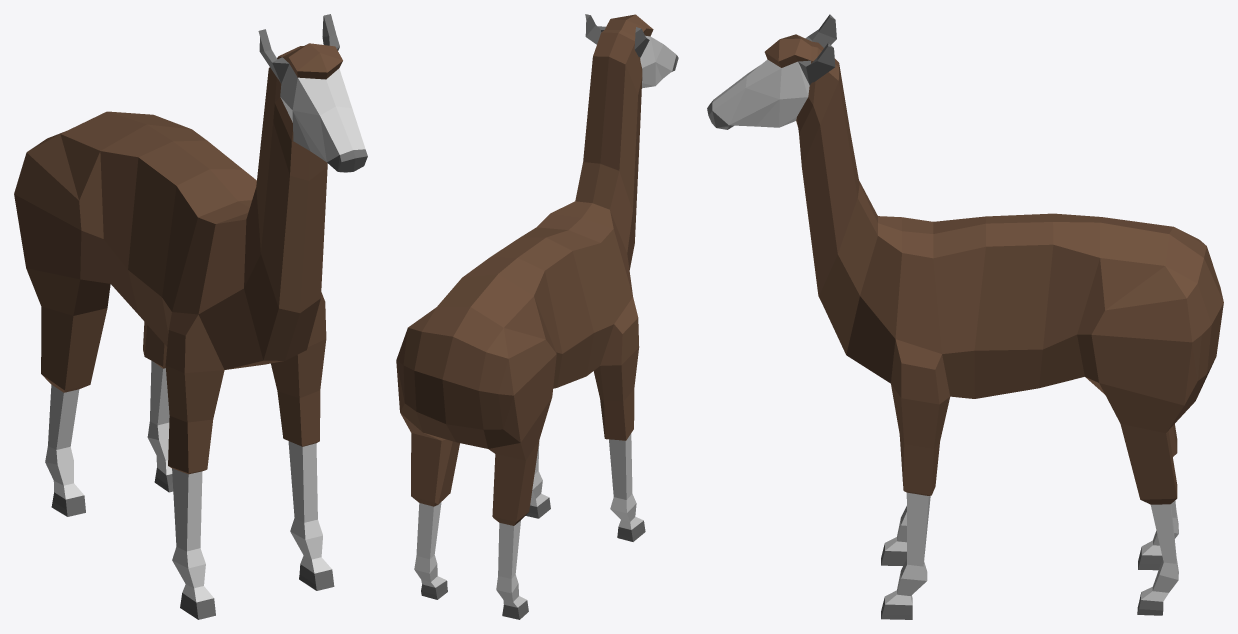
File: Llama.glb
3 renders of one model, left to right at view 1: azimuth 30°, elevation 25°; view 2: azimuth 150°, elevation 25°; view 3: azimuth 270°, elevation 25°, orthographic. The views are drawn at different scales.
Visible parts, largest first — view 1: Llama_Cylinder; view 2: Llama_Cylinder; view 3: Llama_Cylinder.
Boxes of the visible parts, x1=… form: Llama_Cylinder: x1=14, y1=14, x2=367, y2=619; Llama_Cylinder: x1=396, y1=14, x2=678, y2=619; Llama_Cylinder: x1=707, y1=14, x2=1223, y2=619.
Bounding box in the file's own units: 1.57 × 5.86 × 4.91.
